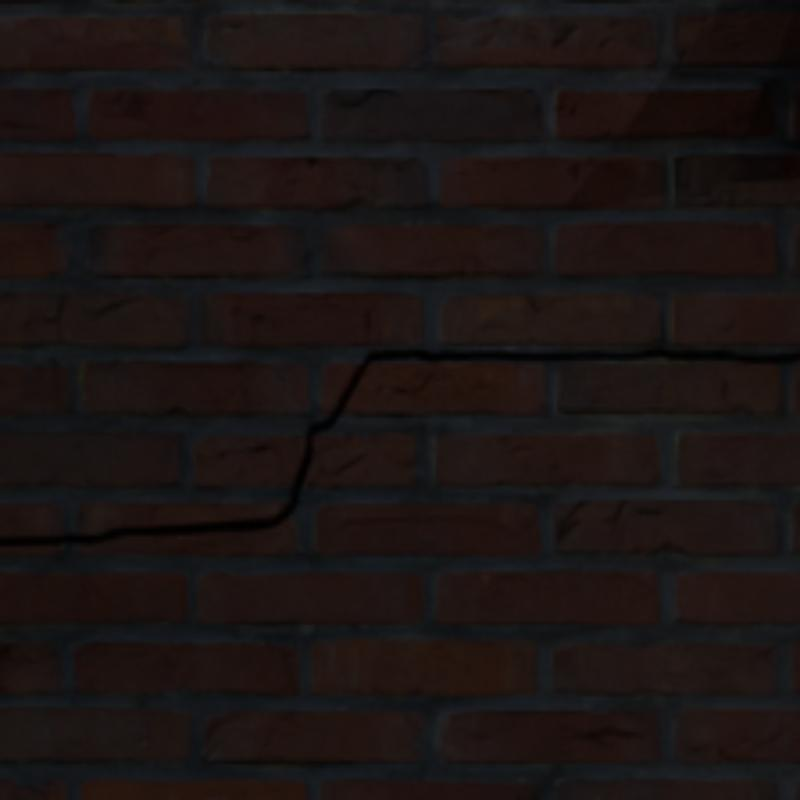crack: (0, 438, 311, 543), (308, 354, 668, 435), (668, 354, 796, 361)
